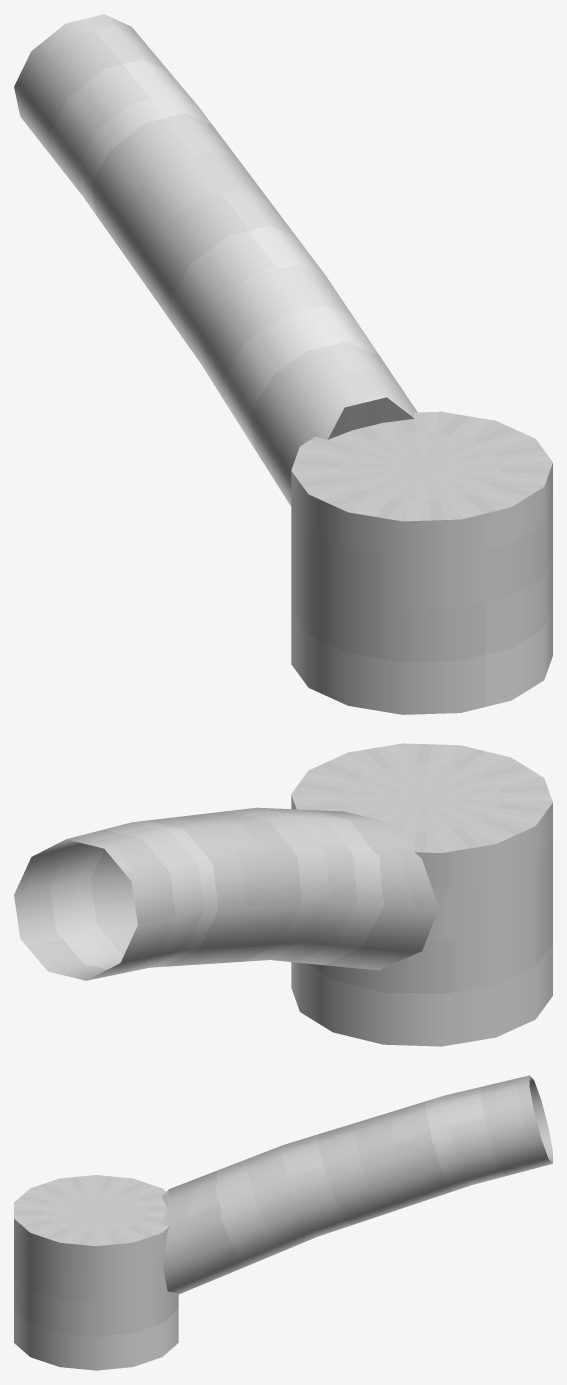
The model's file is nycsignalarm_regular4_c1_thin.obj.
3 views of the same model, one above another, from view 1: azimuth 30°, elevation 25°; view 2: azimuth 150°, elevation 25°; view 3: azimuth 270°, elevation 25° (orthographic). The views are drawn at different scales.
Parts seen in each view (by area): view 1: nycsignalarm_regular4_c1_thin; view 2: nycsignalarm_regular4_c1_thin; view 3: nycsignalarm_regular4_c1_thin.
Part boxes in pixels (left/top/right/bottom): nycsignalarm_regular4_c1_thin: left=14, top=14, right=552, bottom=714; nycsignalarm_regular4_c1_thin: left=14, top=743, right=552, bottom=1046; nycsignalarm_regular4_c1_thin: left=14, top=1075, right=552, bottom=1370.
Size of the model in its own units: 0.5688 by 0.9431 by 1.82.
